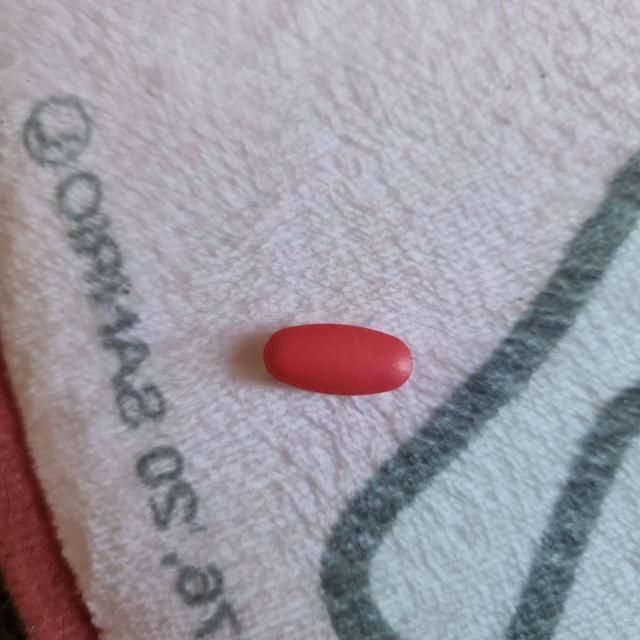pill: (264, 324, 412, 396)
